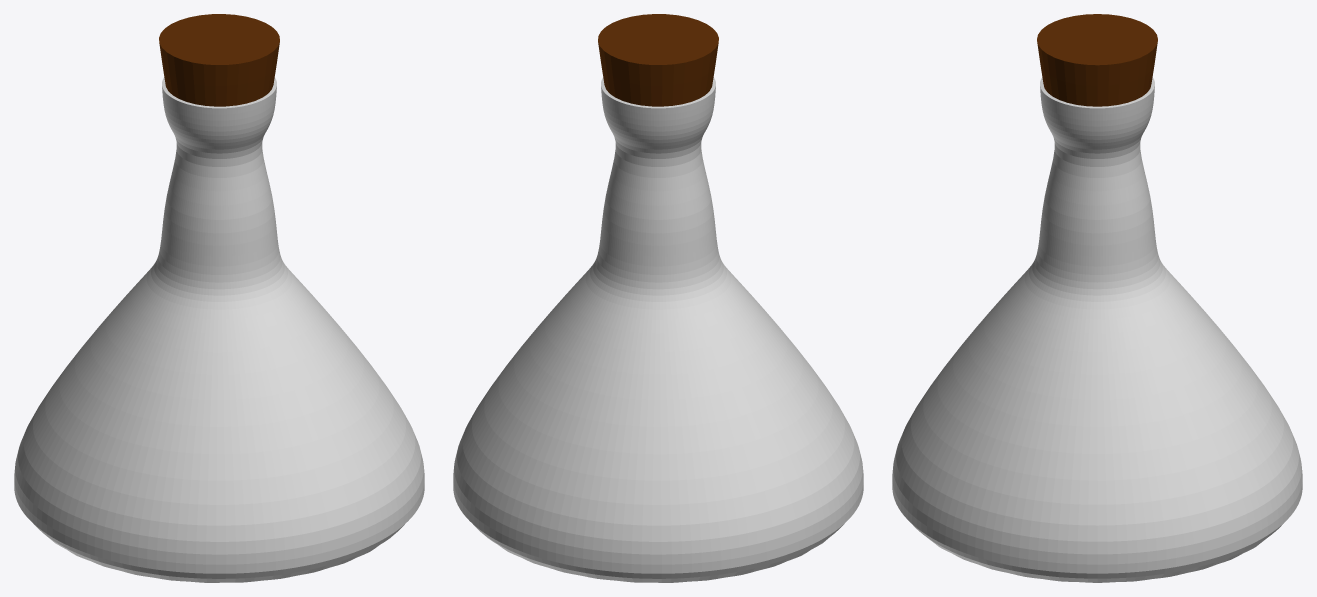
The model's file is Potion_Flask_01.fbx.
3 views of the same model, side by side, from view 1: azimuth 30°, elevation 25°; view 2: azimuth 150°, elevation 25°; view 3: azimuth 270°, elevation 25° (orthographic).
Visible parts, largest first — view 1: Flask Glass, Kork; view 2: Flask Glass, Kork; view 3: Flask Glass, Kork.
Boxes of the visible parts, <box> form: Flask Glass: <box>14,77,424,582</box>; Kork: <box>159,14,279,106</box>; Flask Glass: <box>453,77,863,582</box>; Kork: <box>598,14,718,106</box>; Flask Glass: <box>892,77,1302,582</box>; Kork: <box>1037,14,1157,106</box>.
Size of the model in its own units: 27.56 by 35.59 by 27.56.
